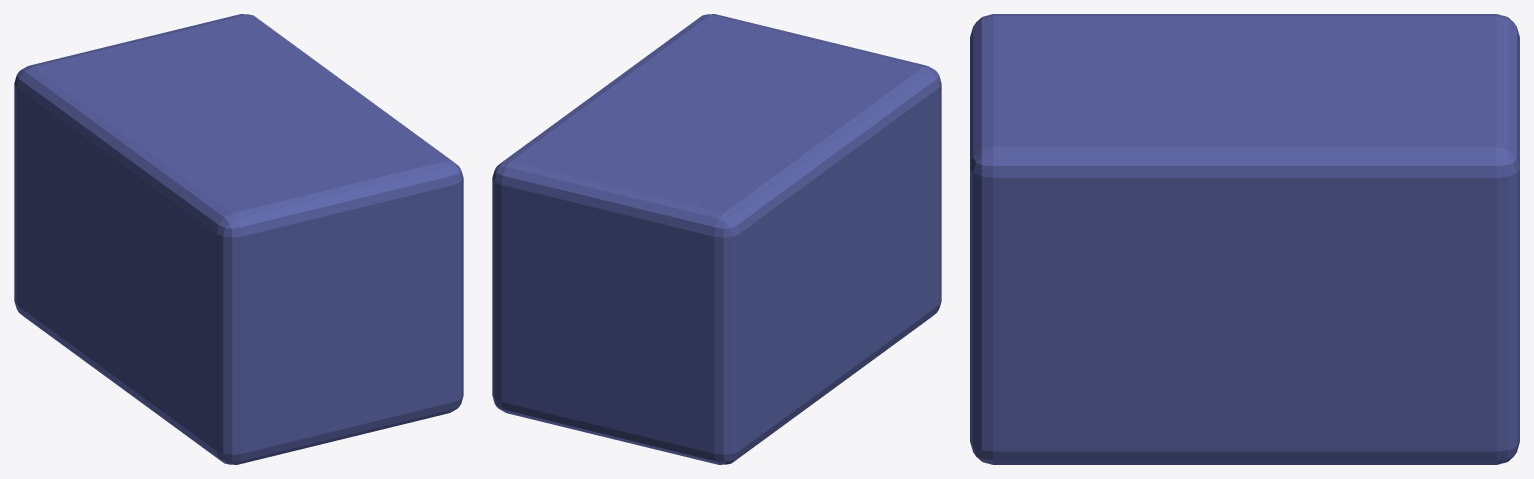
File: block.glb
3 views of the same model, side by side, from view 1: azimuth 30°, elevation 25°; view 2: azimuth 150°, elevation 25°; view 3: azimuth 270°, elevation 25° (orthographic). The views are drawn at different scales.
Parts seen in each view (by area): view 1: block; view 2: block; view 3: block.
Part boxes in pixels (bbox=[...]): block: bbox=[14, 14, 463, 464]; block: bbox=[492, 14, 941, 464]; block: bbox=[970, 14, 1519, 464].
Size of the model in its own units: 0.92 by 0.9 by 1.42.
